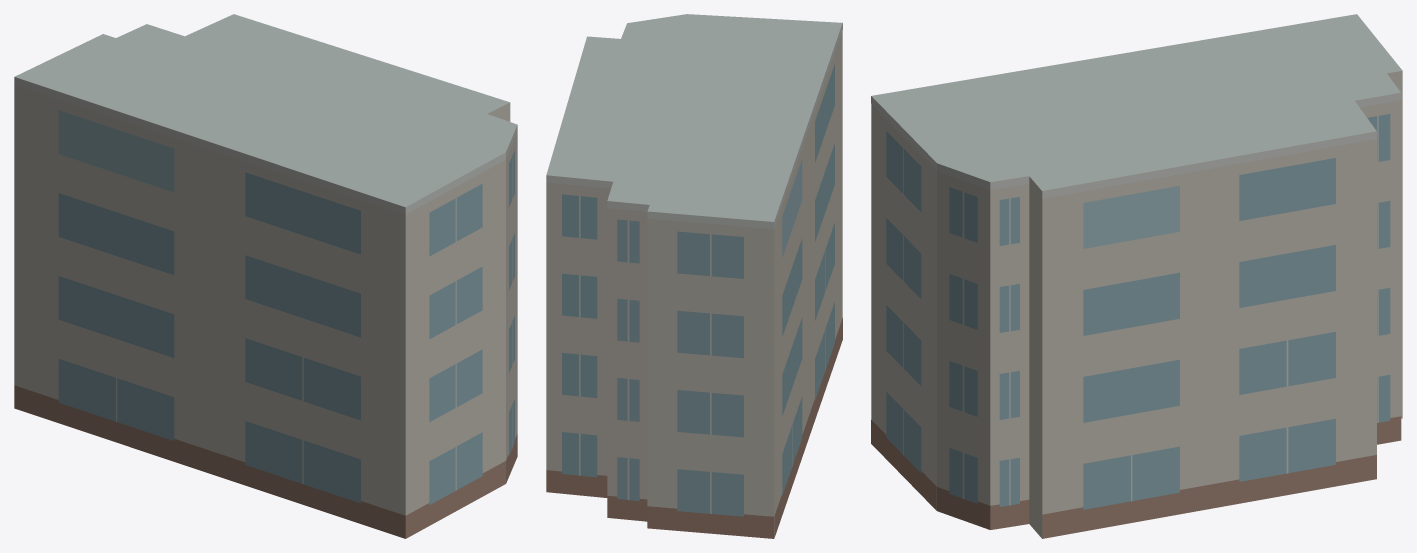
File: survey-upis-32938802.glb
3 views of the same model, side by side, from view 1: azimuth 30°, elevation 25°; view 2: azimuth 150°, elevation 25°; view 3: azimuth 270°, elevation 25° (orthographic). The views are drawn at different scales.
Visible parts, largest first — view 1: survey-upis-32938802.tmp; view 2: survey-upis-32938802.tmp; view 3: survey-upis-32938802.tmp.
Part boxes in pixels (x1,y1,x2,y2): survey-upis-32938802.tmp: (14, 14, 517, 538); survey-upis-32938802.tmp: (546, 14, 842, 538); survey-upis-32938802.tmp: (871, 14, 1402, 538).
Bounding box in the file's own units: 11.91 × 10.9 × 15.11.
